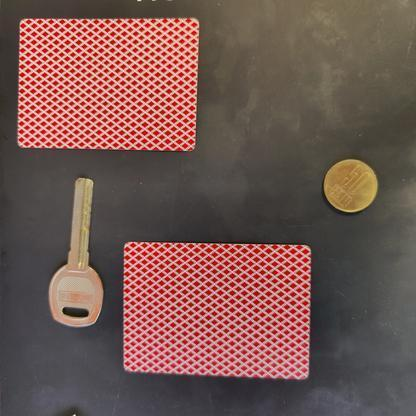card: (12, 10, 209, 159), (118, 233, 315, 382)
